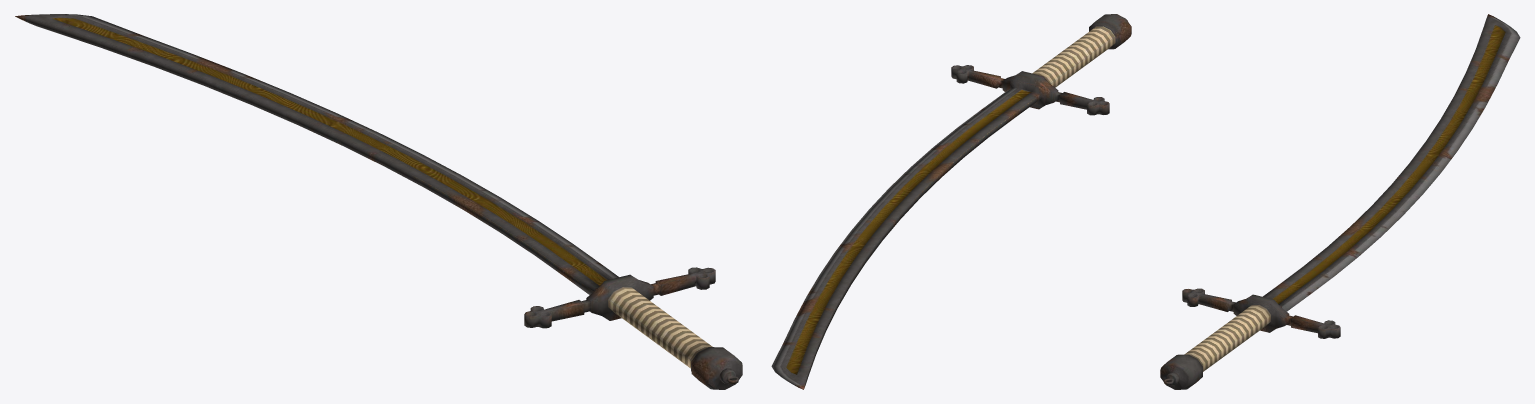
The model's file is w_scimitar.glb.
3 views of the same model, side by side, from view 1: azimuth 30°, elevation 25°; view 2: azimuth 150°, elevation 25°; view 3: azimuth 330°, elevation 25° (orthographic). The views are drawn at different scales.
Parts seen in each view (by area): view 1: Object_4; view 2: Object_4; view 3: Object_4.
Part boxes in pixels (x1,y1,x2,y2): Object_4: [15, 14, 742, 389]; Object_4: [771, 14, 1131, 389]; Object_4: [1160, 14, 1520, 389].
Bounding box in the file's own units: 17.15 × 2.29 × 63.43.
1 material, 1 textured.
